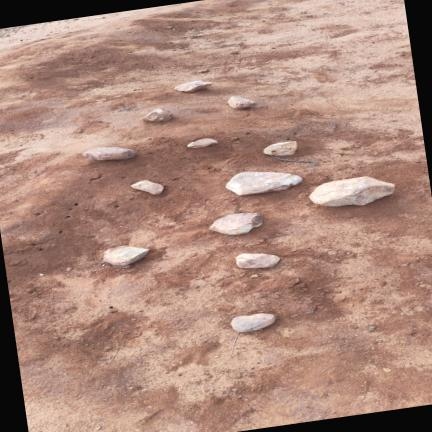Rocks: (310, 176, 393, 206), (225, 172, 301, 195), (209, 213, 261, 235), (103, 246, 148, 266), (230, 313, 274, 332), (82, 147, 135, 160), (236, 254, 278, 268), (263, 141, 296, 156), (131, 181, 163, 195), (142, 108, 172, 122), (173, 81, 211, 92), (227, 96, 255, 109), (187, 139, 216, 148), (197, 69, 208, 74), (368, 326, 375, 332), (249, 274, 258, 278)
